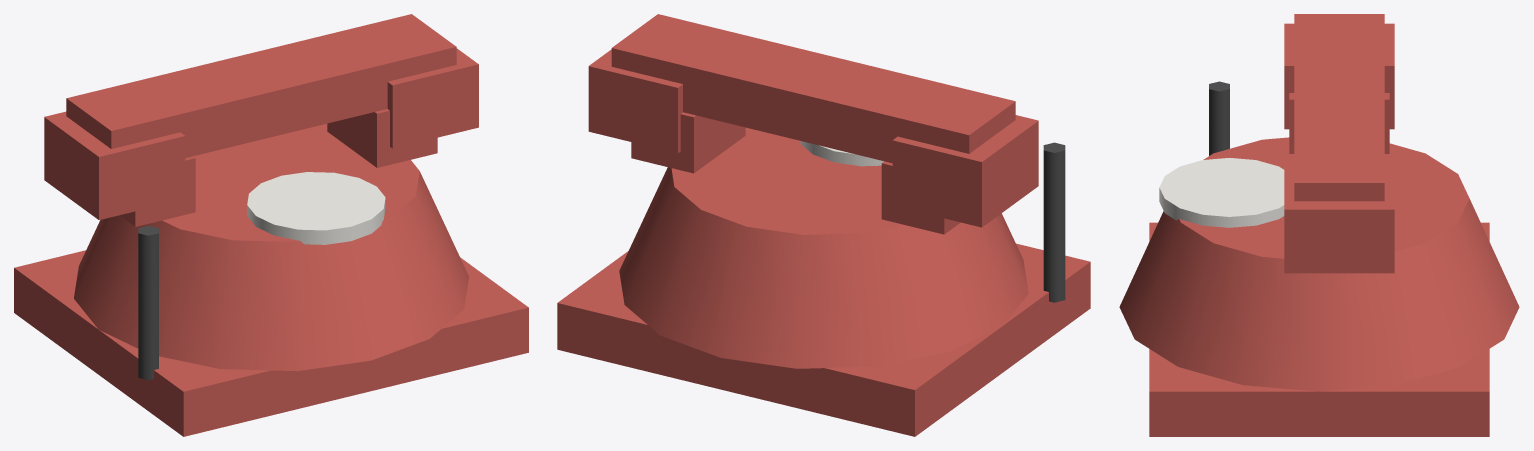
Rendered from phone.glb.
The picture shows the model from 3 angles, left to right: view 1: azimuth 30°, elevation 25°; view 2: azimuth 150°, elevation 25°; view 3: azimuth 270°, elevation 25°; orthographic projection. The views are drawn at different scales.
Parts seen in each view (by area): view 1: phone; view 2: phone; view 3: phone.
Boxes of the visible parts, left/top/right/bottom form: phone: left=14, top=14, right=528, bottom=436; phone: left=557, top=14, right=1090, bottom=436; phone: left=1119, top=14, right=1519, bottom=436.
Size of the model in its own units: 0.22 by 0.14 by 0.2.
